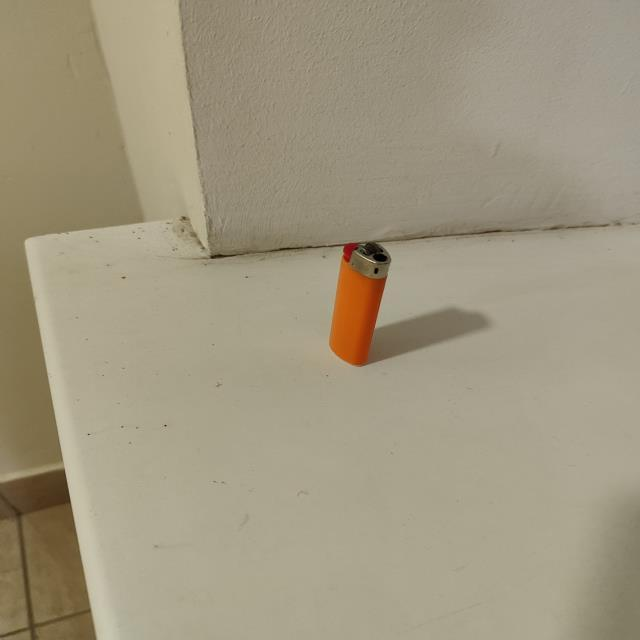lighter: (330, 241, 390, 364)
